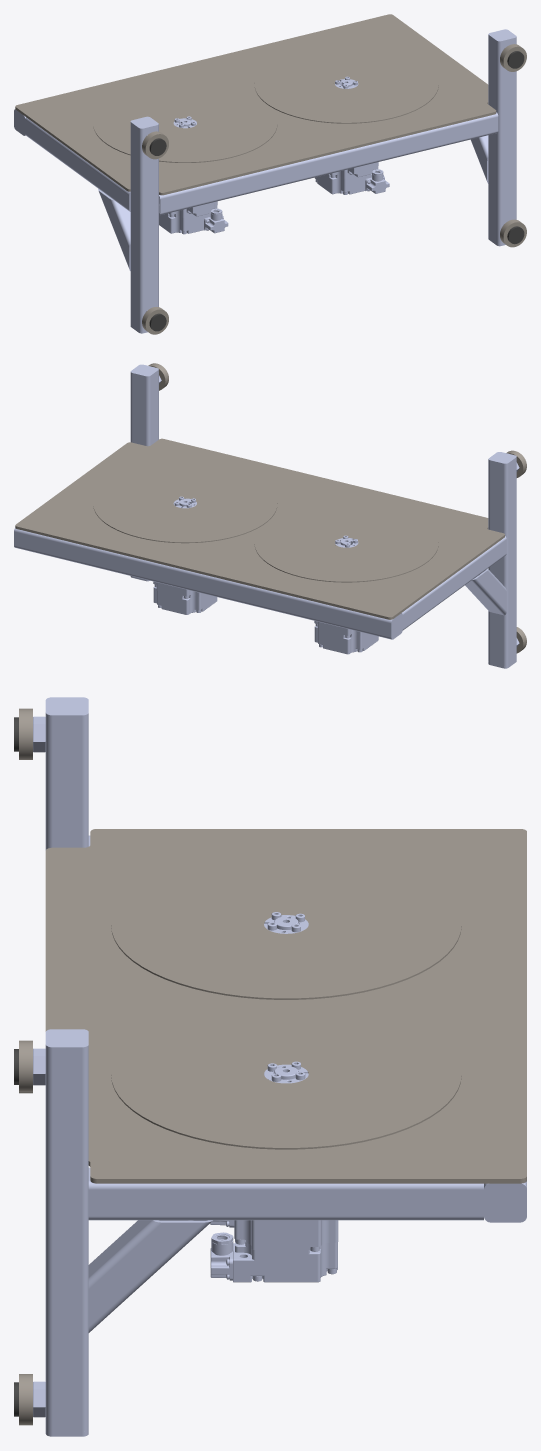
3 renders of one model, top to bottom at view 1: azimuth 30°, elevation 25°; view 2: azimuth 150°, elevation 25°; view 3: azimuth 270°, elevation 25°, orthographic. The views are drawn at different scales.
Visible parts, largest first — view 1: ÃÃÃÃÃ_3Ã¬Ã¬_ÃÃ«Ã Ã±Ã²Ã¨ÃÃ _1, ÃÃÃÃÃ_ÃÃ Ã°ÃªÃ Ã± Ã¢Ã¥Ã°Ã²Ã¨ÃªÃ Ã«Ã¼ÃÃ»Ã©_ÂÂ® Ã£Â¬Â®Â«Ã§Â ÂÂ (×6), 1Ã¬Ã¬_ÃÃ¨Ã±Ãª_2Ã¸Ã²001, 1Ã¬Ã¬_ÃÃ¨Ã±Ãª_2Ã¸Ã², 60X6_X2_65B962A47F69FF084E097AF.stp001, 60X6_X2_65B962A47F69FF084E097AF.stp; view 2: ÃÃÃÃÃ_3Ã¬Ã¬_ÃÃ«Ã Ã±Ã²Ã¨ÃÃ _1, ÃÃÃÃÃ_ÃÃ Ã°ÃªÃ Ã± Ã¢Ã¥Ã°Ã²Ã¨ÃªÃ Ã«Ã¼ÃÃ»Ã©_ÂÂ® Ã£Â¬Â®Â«Ã§Â ÂÂ (×5), 1Ã¬Ã¬_ÃÃ¨Ã±Ãª_2Ã¸Ã²001, 1Ã¬Ã¬_ÃÃ¨Ã±Ãª_2Ã¸Ã², 60X6_X2_65B962A47F69FF084E097AF.stp, 60X6_X2_65B962A47F69FF084E097AF.stp001; view 3: ÃÃÃÃÃ_3Ã¬Ã¬_ÃÃ«Ã Ã±Ã²Ã¨ÃÃ _1, ÃÃÃÃÃ_ÃÃ Ã°ÃªÃ Ã± Ã¢Ã¥Ã°Ã²Ã¨ÃªÃ Ã«Ã¼ÃÃ»Ã©_ÂÂ® Ã£Â¬Â®Â«Ã§Â ÂÂ (×7), 1Ã¬Ã¬_ÃÃ¨Ã±Ãª_2Ã¸Ã²001, 1Ã¬Ã¬_ÃÃ¨Ã±Ãª_2Ã¸Ã², 60X6_X2_65B962A47F69FF084E097AF.stp001, 60_X2_4E004F53673A58F3_X0__400W.stp001.
Part boxes in pixels (x1,y1,x2,y2): ÃÃÃÃÃ_3Ã¬Ã¬_ÃÃ«Ã Ã±Ã²Ã¨ÃÃ _1: [15, 14, 496, 195]; ÃÃÃÃÃ_ÃÃ Ã°ÃªÃ Ã± Ã¢Ã¥Ã°Ã²Ã¨ÃªÃ Ã«Ã¼ÃÃ»Ã©_ÂÂ® Ã£Â¬Â®Â«Ã§Â ÂÂ (×6): [25, 37, 516, 330]; 1Ã¬Ã¬_ÃÃ¨Ã±Ãª_2Ã¸Ã²001: [254, 45, 438, 123]; 1Ã¬Ã¬_ÃÃ¨Ã±Ãª_2Ã¸Ã²: [93, 84, 277, 162]; 60X6_X2_65B962A47F69FF084E097AF.stp001: [315, 166, 383, 194]; 60X6_X2_65B962A47F69FF084E097AF.stp: [159, 205, 222, 233]; ÃÃÃÃÃ_3Ã¬Ã¬_ÃÃ«Ã Ã±Ã²Ã¨ÃÃ _1: [15, 438, 504, 619]; ÃÃÃÃÃ_ÃÃ Ã°ÃªÃ Ã± Ã¢Ã¥Ã°Ã²Ã¨ÃªÃ Ã«Ã¼ÃÃ»Ã©_ÂÂ® Ã£Â¬Â®Â«Ã§Â ÂÂ (×5): [16, 372, 516, 666]; 1Ã¬Ã¬_ÃÃ¨Ã±Ãª_2Ã¸Ã²001: [93, 464, 277, 543]; 1Ã¬Ã¬_ÃÃ¨Ã±Ãª_2Ã¸Ã²: [254, 504, 438, 582]; 60X6_X2_65B962A47F69FF084E097AF.stp: [314, 626, 378, 654]; 60X6_X2_65B962A47F69FF084E097AF.stp001: [153, 586, 217, 614]; ÃÃÃÃÃ_3Ã¬Ã¬_ÃÃ«Ã Ã±Ã²Ã¨ÃÃ _1: [45, 829, 526, 1183]; ÃÃÃÃÃ_ÃÃ Ã°ÃªÃ Ã± Ã¢Ã¥Ã°Ã²Ã¨ÃªÃ Ã«Ã¼ÃÃ»Ã©_ÂÂ® Ã£Â¬Â®Â«Ã§Â ÂÂ (×7): [45, 697, 526, 1431]; 1Ã¬Ã¬_ÃÃ¨Ã±Ãª_2Ã¸Ã²001: [111, 1000, 461, 1149]; 1Ã¬Ã¬_ÃÃ¨Ã±Ãª_2Ã¸Ã²: [111, 850, 461, 999]; 60X6_X2_65B962A47F69FF084E097AF.stp001: [233, 1239, 337, 1282]; 60_X2_4E004F53673A58F3_X0__400W.stp001: [232, 1220, 338, 1243].
Bounding box in the file's own units: 0.487 × 0.25 × 0.2985.
